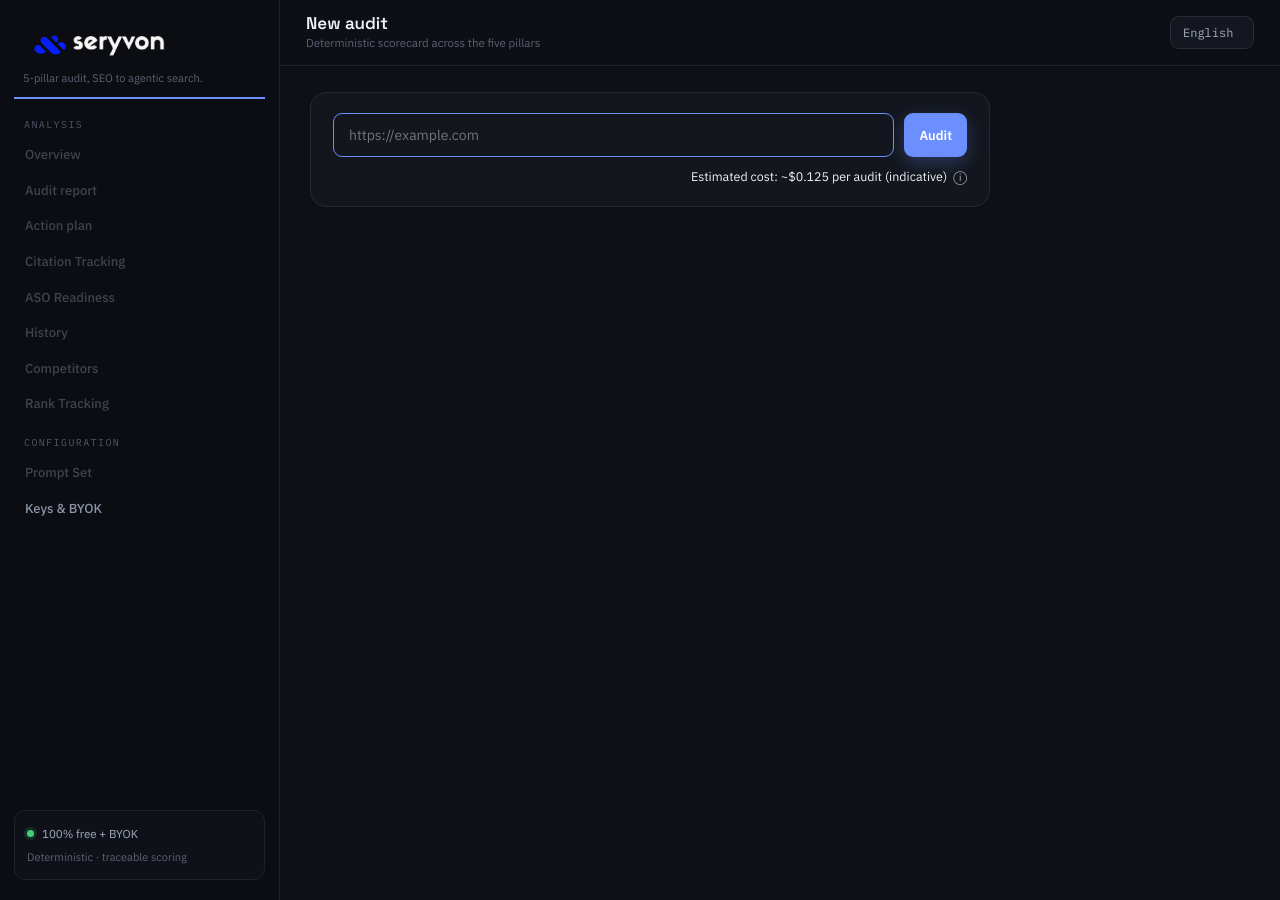
it: opens the cost breakdown with active and inactive connectors
This screenshot has width=1280, height=900.
Check: the text "Estimated cost: ~$0.125 per audit (indicative)" is shown, box top-left (691, 167), bottom-right (947, 186)
Step 1. Hover over the button named "Cost breakdown" → [960, 176], box top-left (953, 170), bottom-right (967, 183)
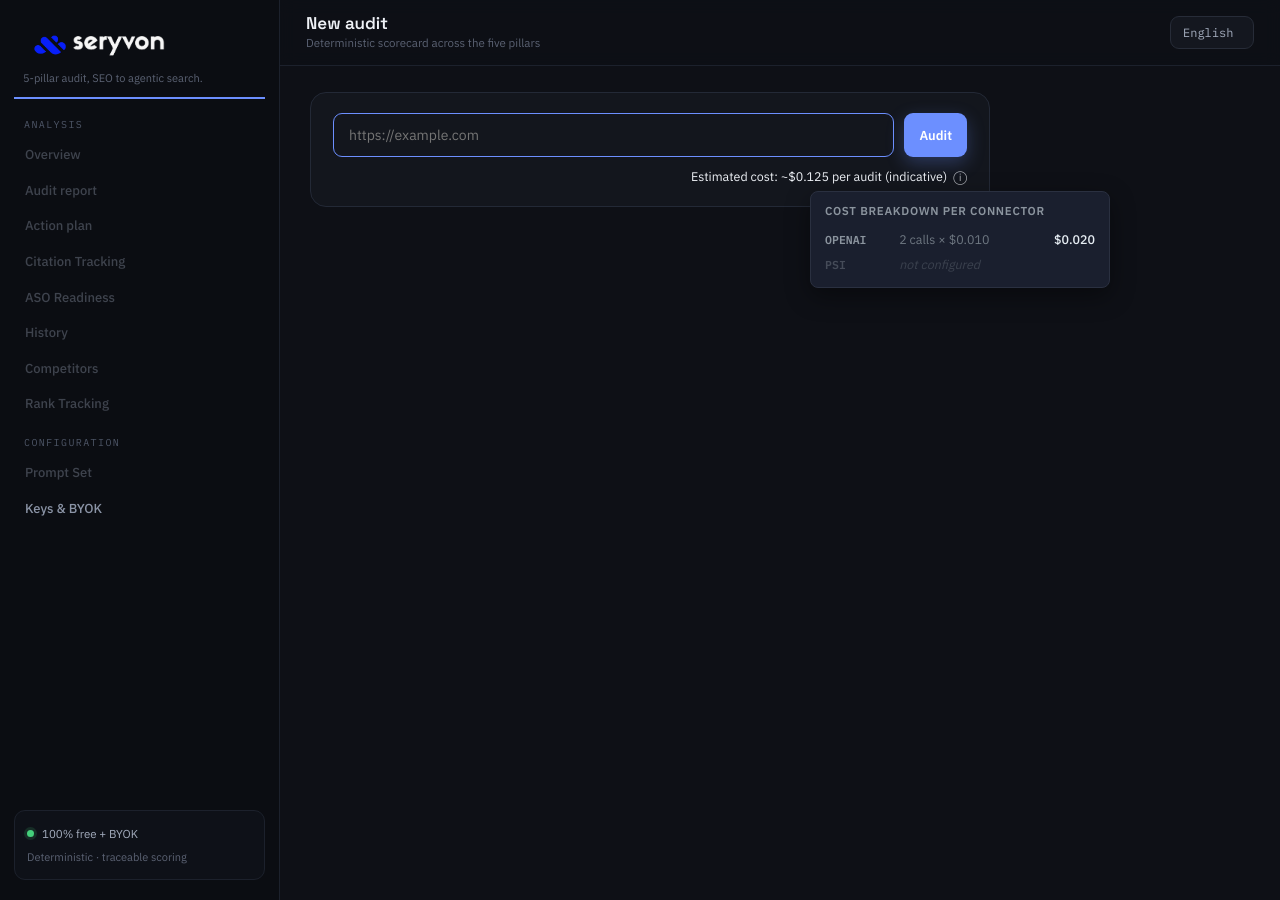
Check: the tooltip shows "OPENAI", box top-left (825, 232), bottom-right (867, 247)
Check: the tooltip shows "not configured", box top-left (899, 256), bottom-right (980, 272)
Step 2. Move the pointer off the button named "Cost breakdown", box top-left (953, 170), bottom-right (967, 183)
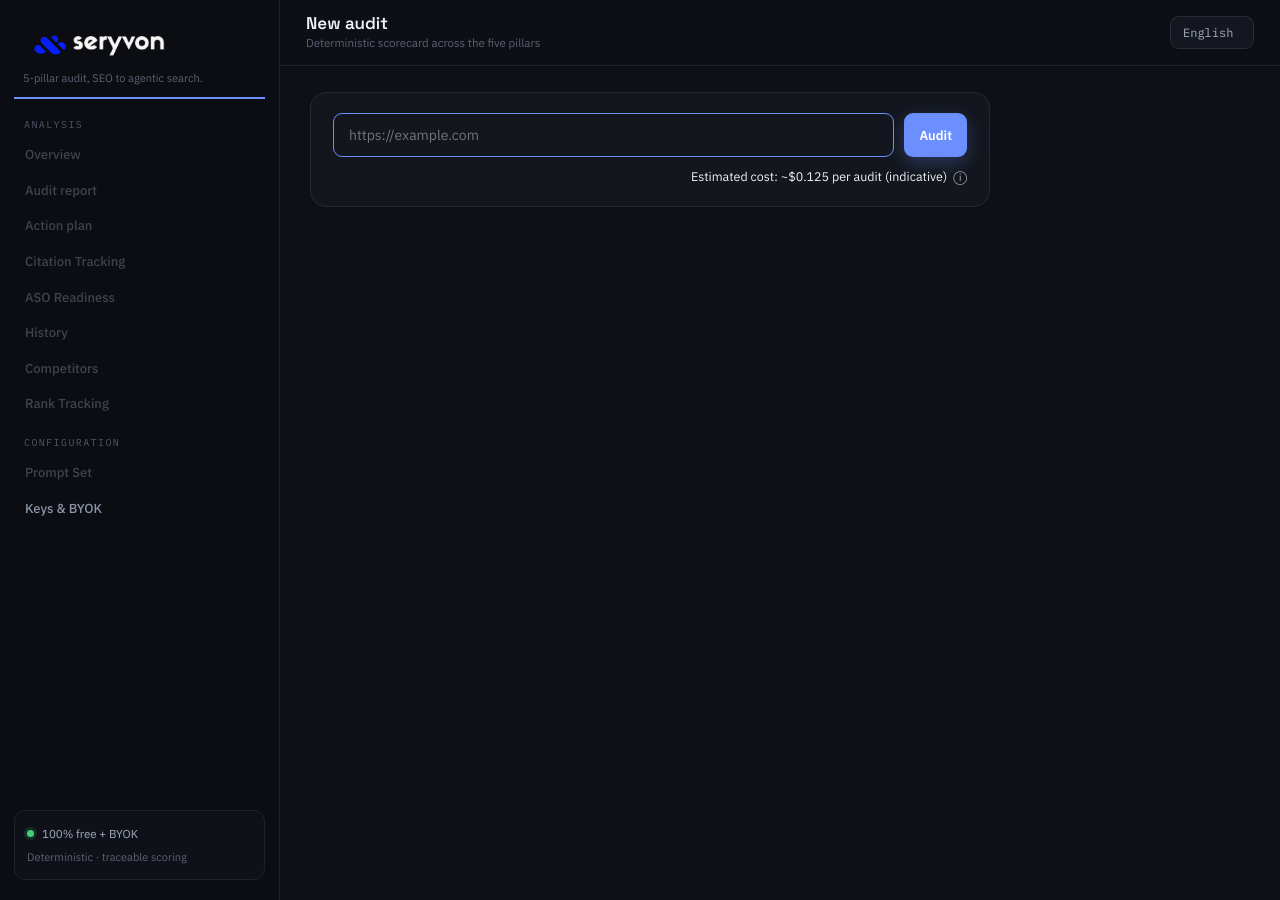
Check: the tooltip "Cost breakdown per connector OPENAI 2 calls × $0.010 $0.020 PSI not configured" is gone
